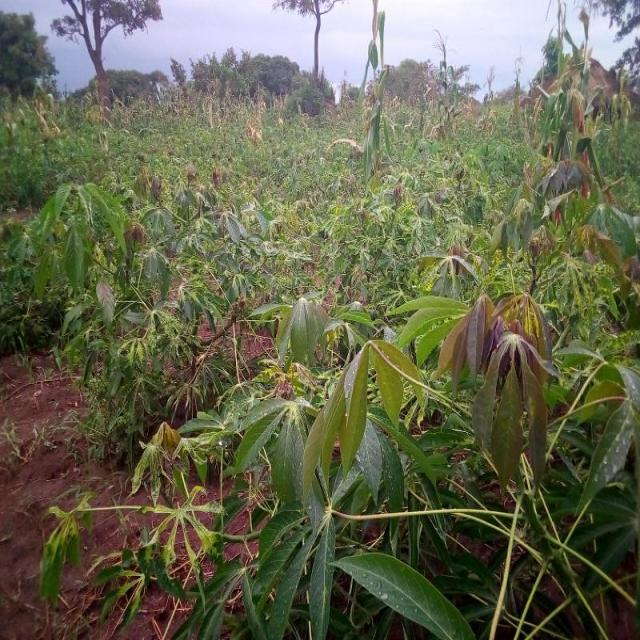cassava leaf: (329, 549, 475, 639)
